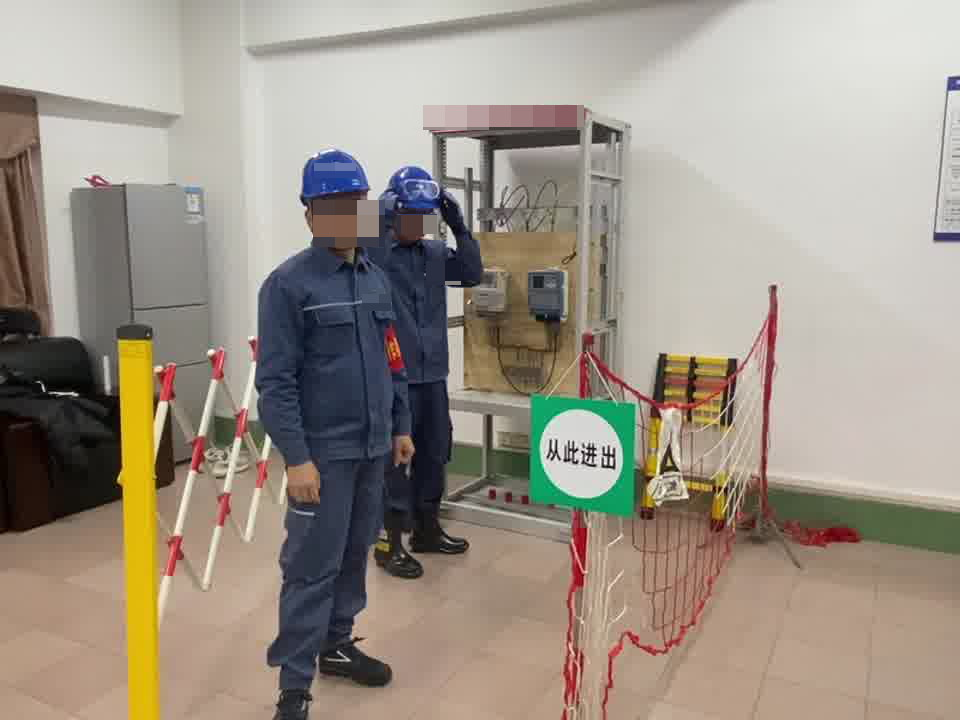badge: (384, 325, 406, 376)
downsuit: (268, 456, 389, 687), (396, 385, 456, 539)
glove: (435, 187, 470, 239), (370, 194, 404, 242)
halt: (298, 148, 374, 252), (378, 164, 442, 244)
hand: (284, 465, 325, 509), (396, 437, 417, 462)
inear: (298, 197, 321, 240)
intosign: (533, 395, 628, 511)
person: (248, 148, 414, 708), (357, 161, 486, 576)
shoe: (374, 495, 471, 566)
upsuit: (254, 244, 399, 456), (365, 221, 485, 383)
